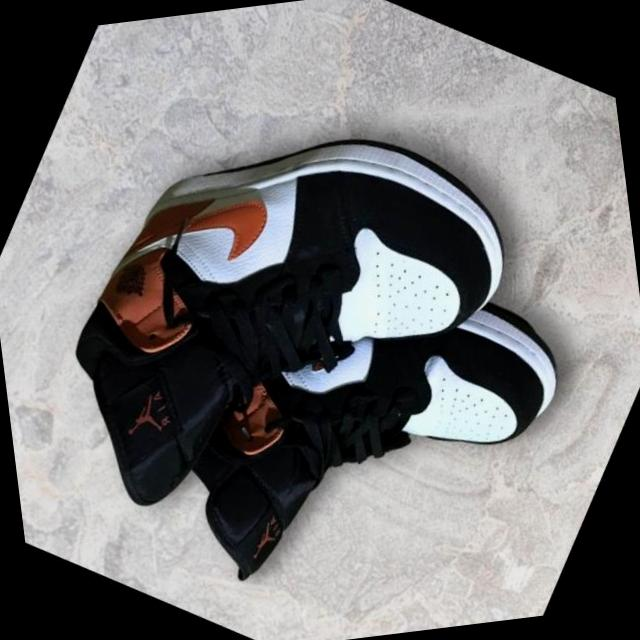nike_fake_jordan: (0, 18, 582, 640), (52, 148, 613, 640)
